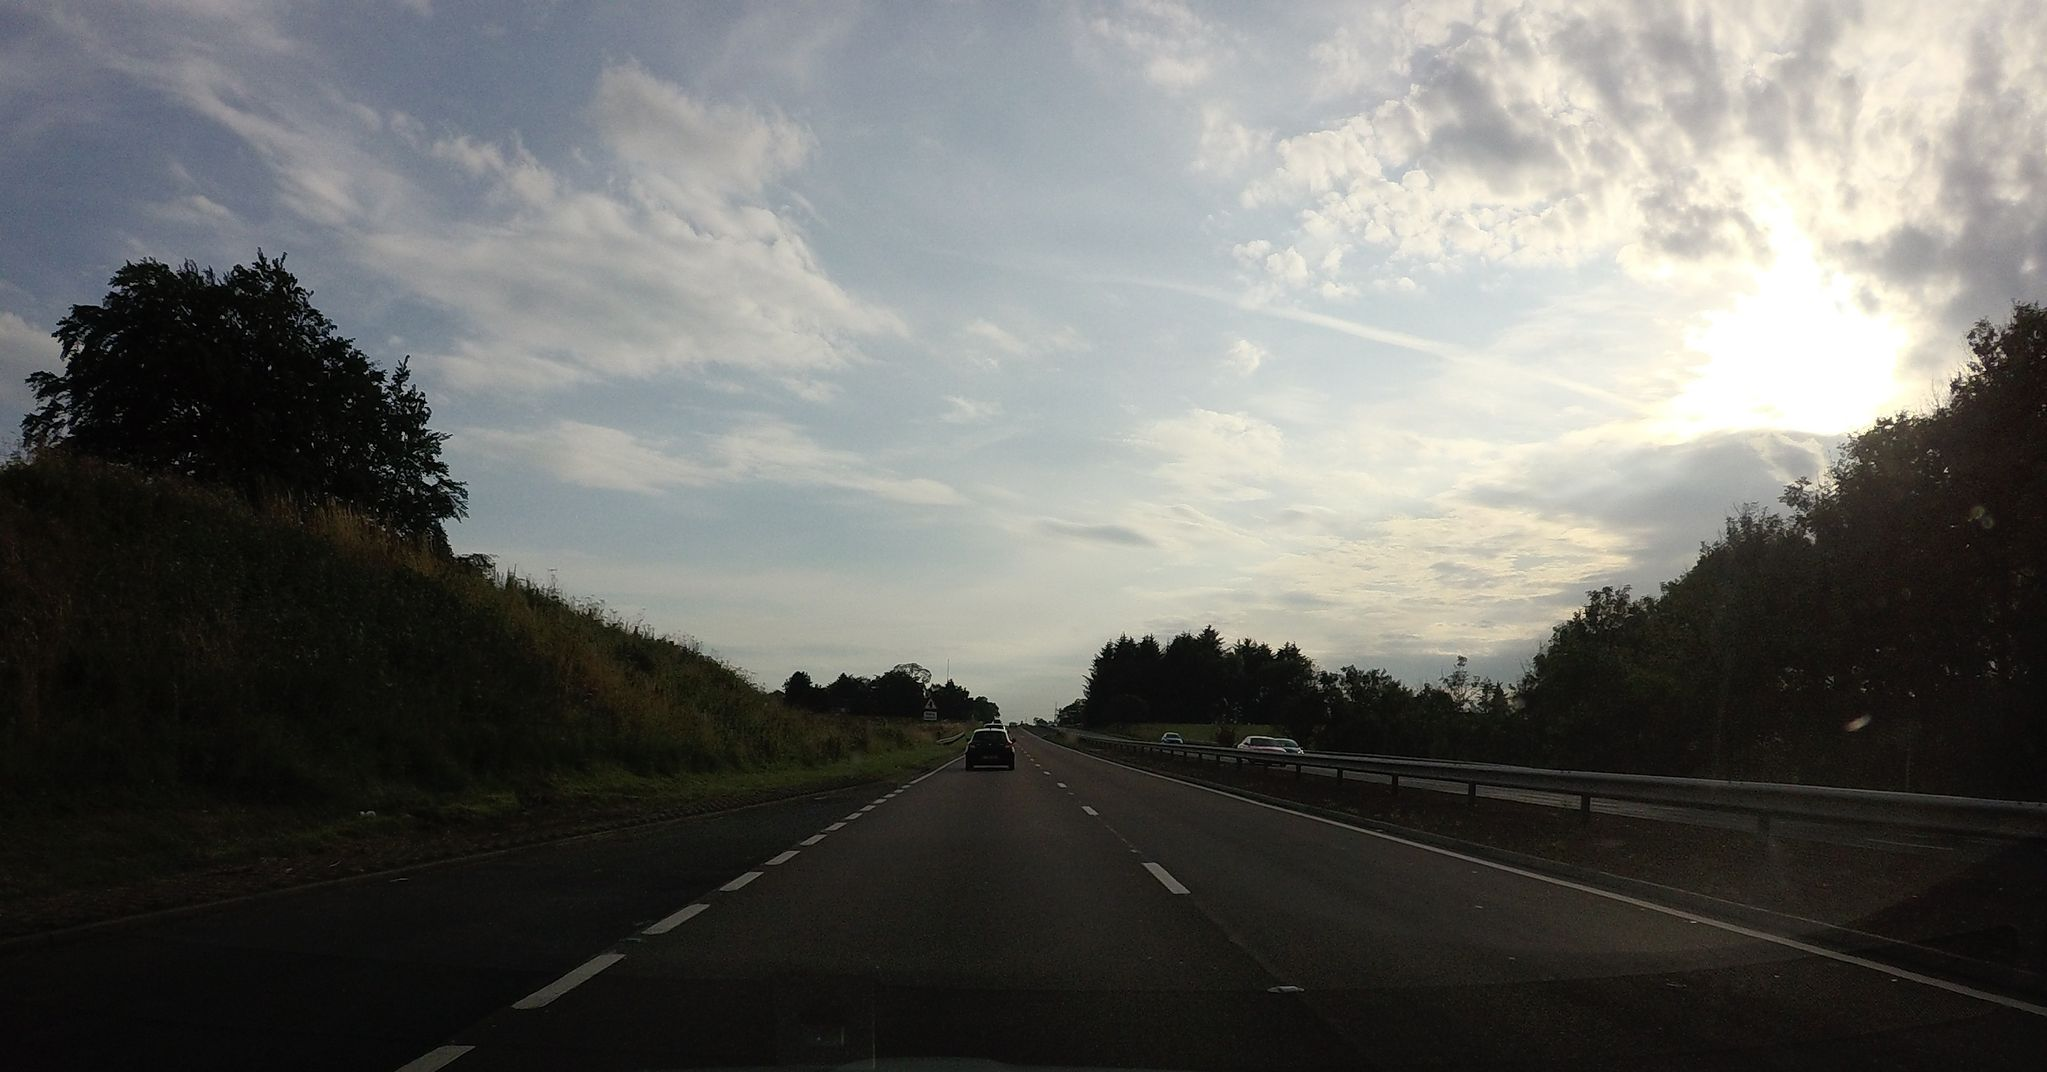car: (963, 727, 1015, 770), (1236, 735, 1285, 763), (1273, 736, 1304, 757), (1160, 731, 1183, 744)
